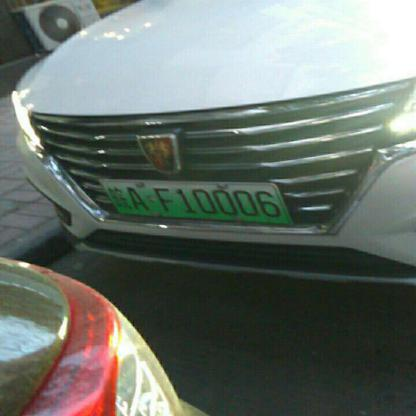lp: (96, 179, 291, 223)
